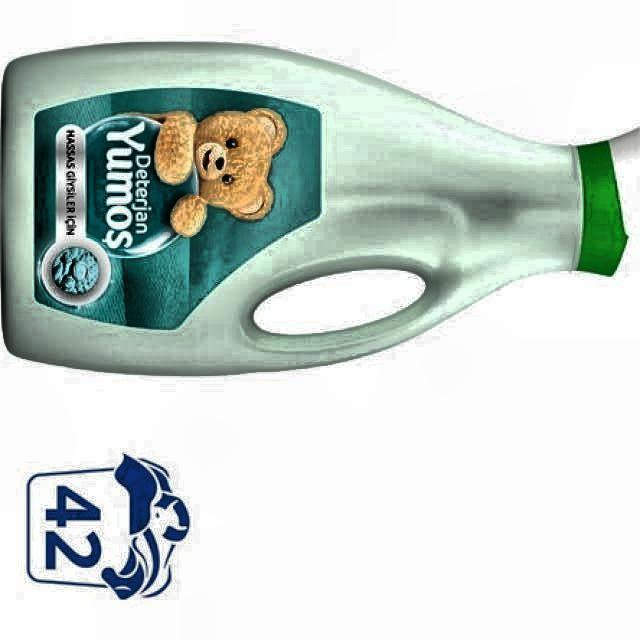plastic: (2, 44, 640, 374)
